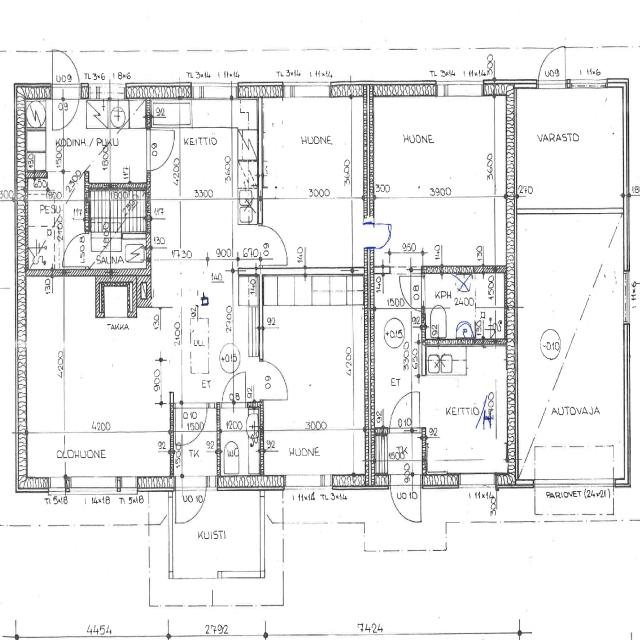door: (390, 474, 420, 534), (176, 474, 206, 534), (175, 403, 206, 453), (389, 384, 420, 434), (52, 83, 79, 137), (52, 46, 79, 100), (364, 211, 400, 249), (146, 130, 179, 170), (258, 226, 291, 266), (538, 45, 565, 91), (259, 361, 290, 400), (396, 276, 426, 312), (60, 233, 89, 267), (222, 368, 246, 408)
